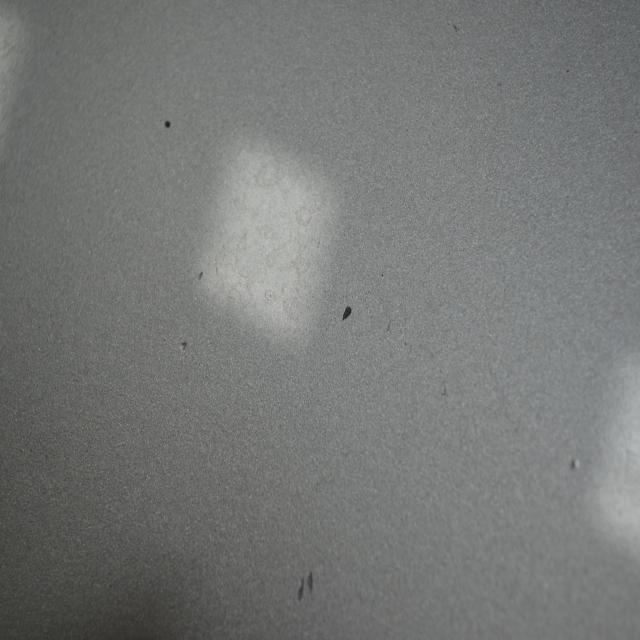dirt: (292, 568, 308, 602), (158, 110, 175, 134), (436, 372, 448, 404), (340, 301, 355, 325), (449, 15, 462, 42), (306, 568, 316, 598), (177, 338, 189, 353), (571, 454, 581, 472), (197, 270, 204, 280)
water marks: (204, 136, 338, 342)
